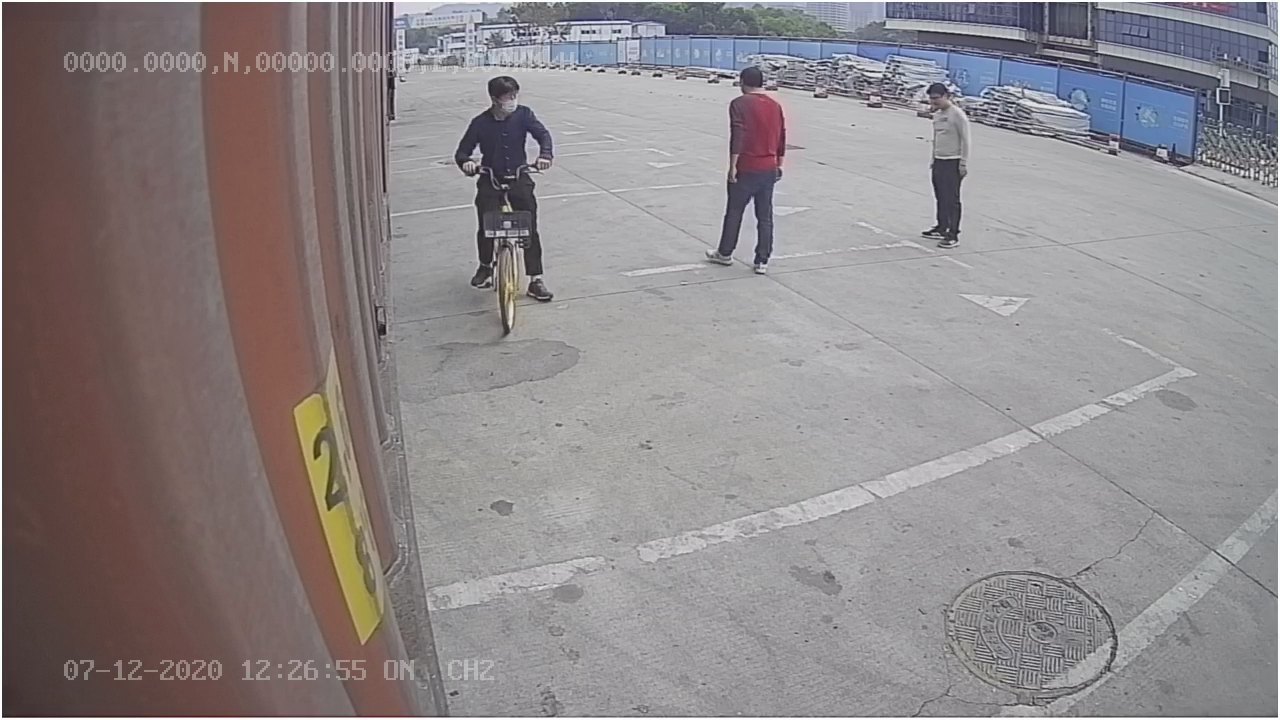person: (703, 62, 792, 278)
